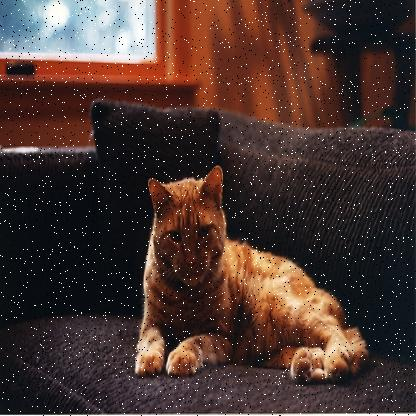cat: (138, 160, 367, 390)
